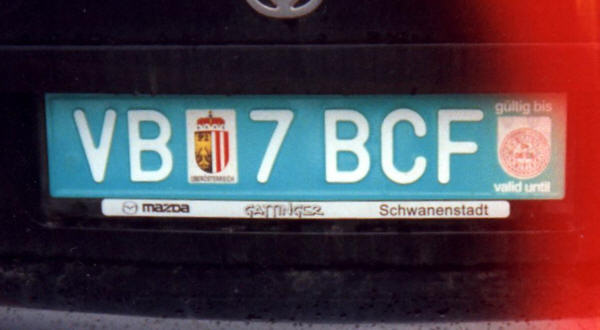license_plate: (43, 91, 567, 202)
